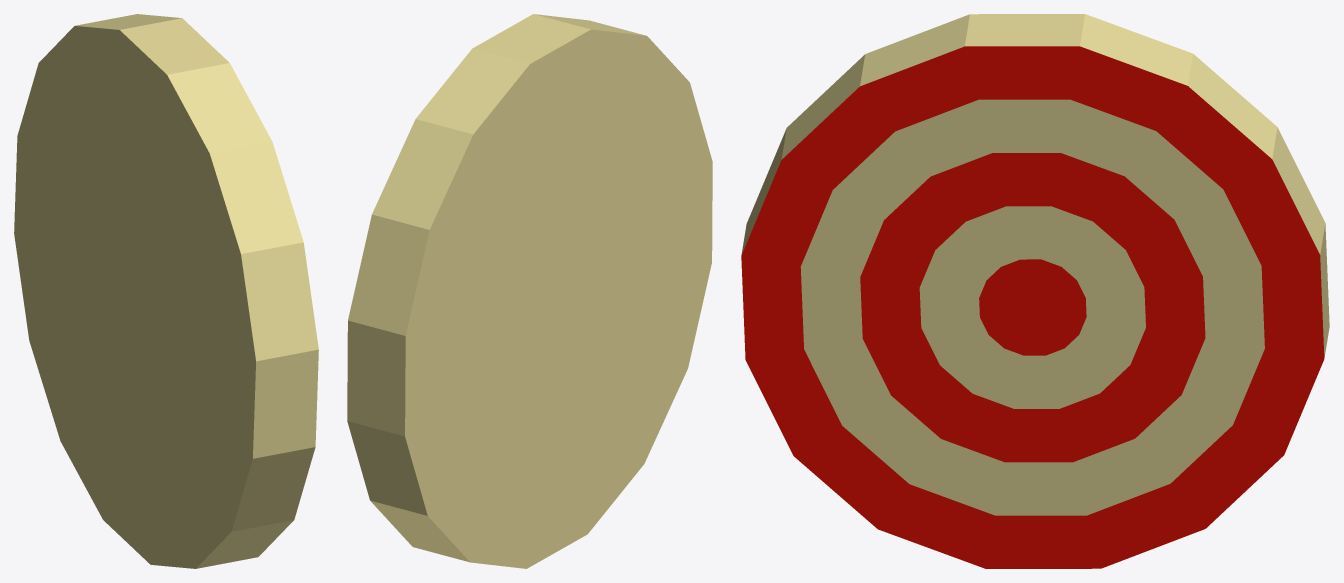
Rendered from TARGET.fbx.
3 renders of one model, left to right at view 1: azimuth 30°, elevation 25°; view 2: azimuth 150°, elevation 25°; view 3: azimuth 270°, elevation 25°, orthographic. The views are drawn at different scales.
Visible parts, largest first — view 1: Cylinder; view 2: Cylinder; view 3: Cylinder.
Part boxes in pixels (left/top/right/bottom): Cylinder: left=14, top=14, right=318, bottom=568; Cylinder: left=347, top=14, right=712, bottom=568; Cylinder: left=741, top=14, right=1329, bottom=568.
Bounding box in the file's own units: 39.57 × 198 × 199.
